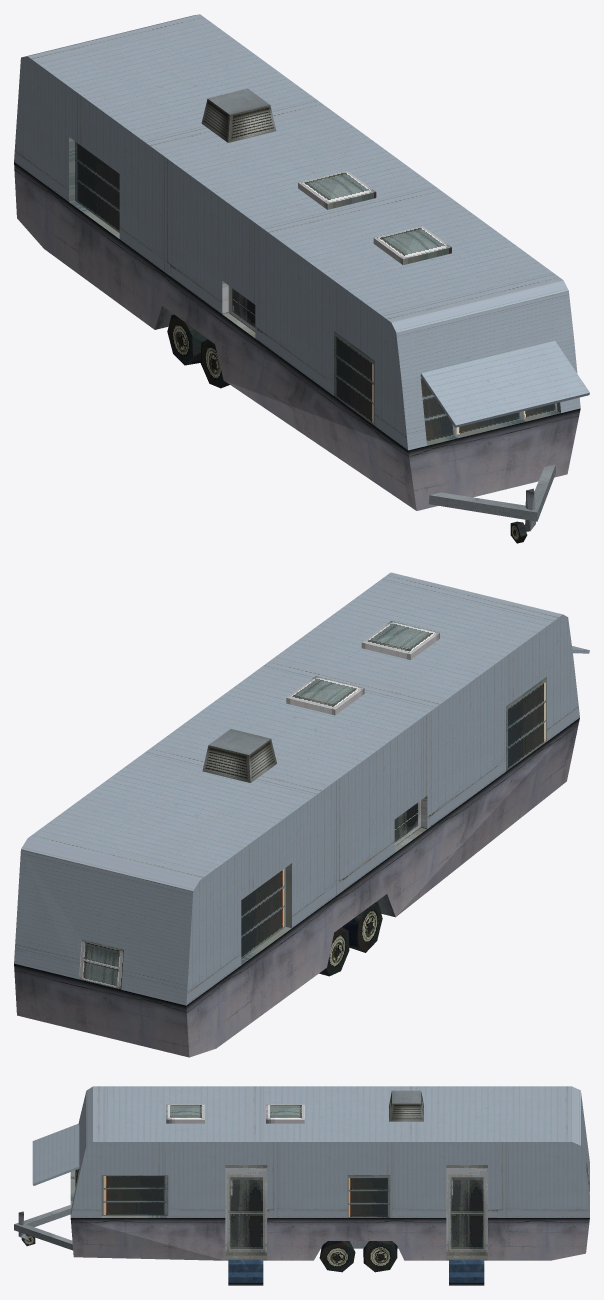
Rendered from trailer6_01.obj.
3 views of the same model, one above another, from view 1: azimuth 30°, elevation 25°; view 2: azimuth 150°, elevation 25°; view 3: azimuth 270°, elevation 25° (orthographic). The views are drawn at different scales.
Visible parts, largest first — view 1: trailer6_01; view 2: trailer6_01; view 3: trailer6_01.
Boxes of the visible parts, x1=… form: trailer6_01: x1=14, y1=14, x2=589, y2=543; trailer6_01: x1=14, y1=572, x2=589, y2=1057; trailer6_01: x1=14, y1=1086, x2=589, y2=1285.
Bounding box in the file's own units: 3.31 × 3.55 × 12.29.
